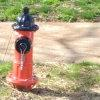a fire hydrant: (11, 10, 40, 86)
